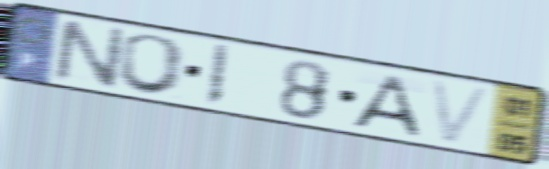8: (278, 58, 333, 122)
A: (346, 72, 424, 140)
I: (201, 41, 233, 110)
N: (50, 16, 129, 92)
O: (112, 31, 191, 99)
V: (427, 76, 497, 148)
